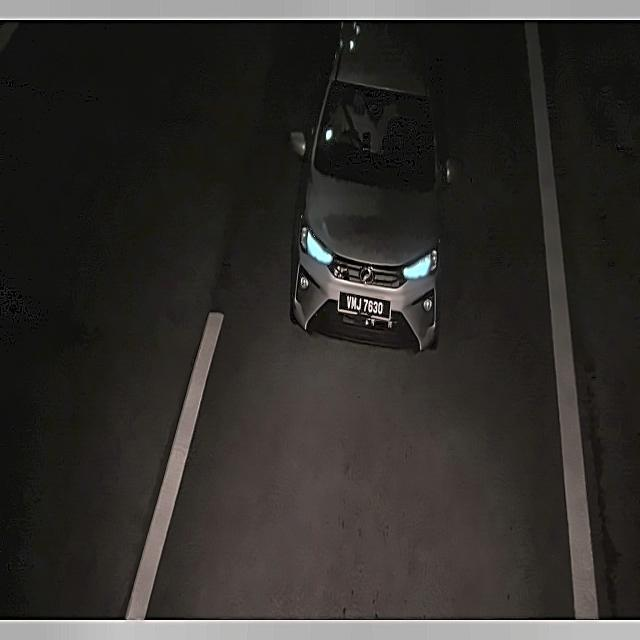car: (335, 283, 394, 325)
